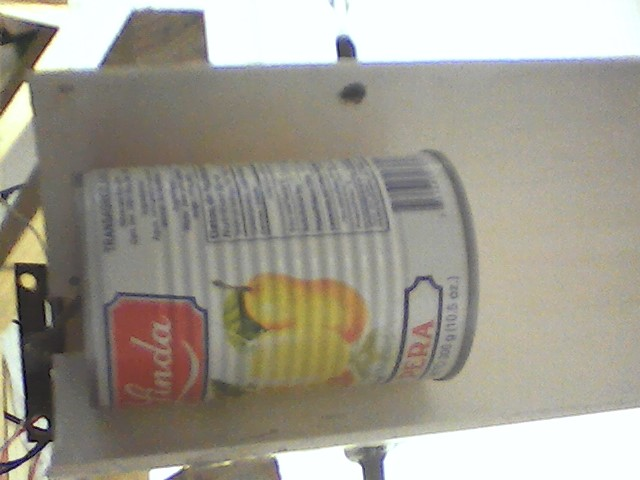lata: (64, 143, 485, 421)
